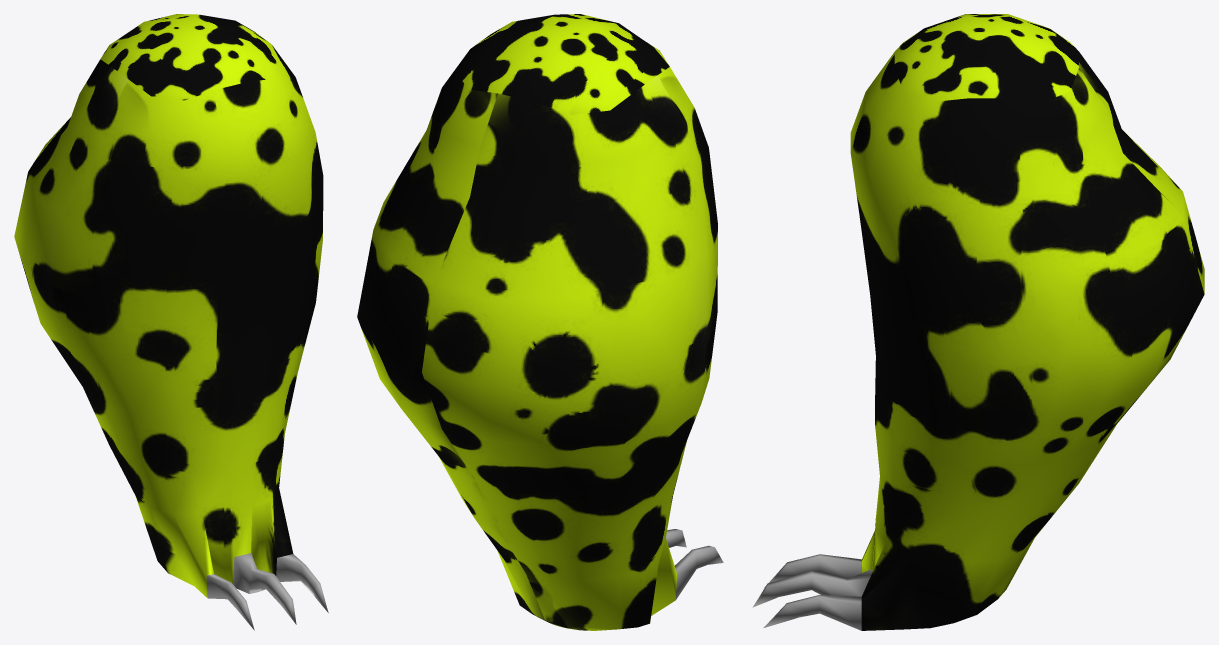
File: Pies de AnimalI.fbx
3 views of the same model, side by side, from view 1: azimuth 30°, elevation 25°; view 2: azimuth 150°, elevation 25°; view 3: azimuth 270°, elevation 25° (orthographic). The views are drawn at different scales.
Parts seen in each view (by area): view 1: Pies de AnimalI; view 2: Pies de AnimalI; view 3: Pies de AnimalI.
Boxes of the visible parts, x1,y1,x2,y2 form: Pies de AnimalI: (14,14,328,630); Pies de AnimalI: (357,14,723,630); Pies de AnimalI: (752,14,1204,630).
Bounding box in the file's own units: 15.42 × 29.26 × 20.53.
